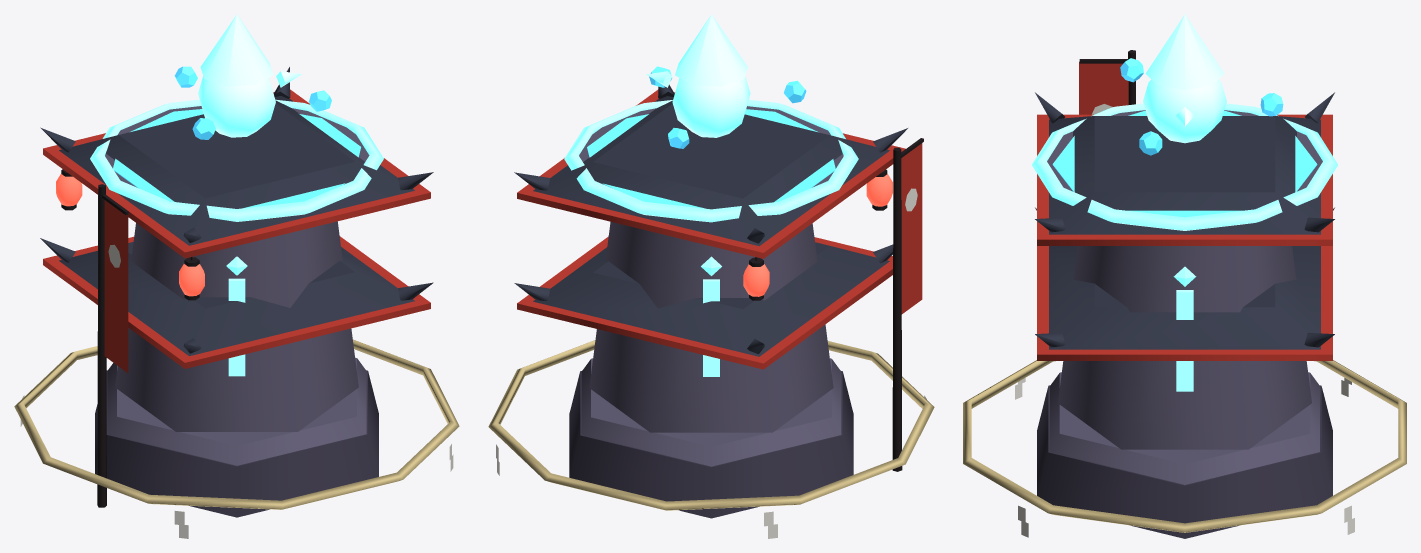
The model's file is tower_element_elementWater.glb.
3 views of the same model, side by side, from view 1: azimuth 30°, elevation 25°; view 2: azimuth 150°, elevation 25°; view 3: azimuth 270°, elevation 25° (orthographic). The views are drawn at different scales.
Parts seen in each view (by area): view 1: pillar, deco_eave_0_roof, deco_eave_1_roof, base, base_top, deco_shimenawa_rope, basin_rim, deco_eave_1_rim, deco_eave_0_rim, deco_nobori_cloth, crystal, crystal_tip (+8 smaller); view 2: pillar, deco_eave_0_roof, deco_eave_1_roof, base, base_top, deco_shimenawa_rope, deco_eave_1_rim, basin_rim, deco_eave_0_rim, crystal, deco_nobori_cloth, crystal_tip (+8 smaller); view 3: pillar, deco_eave_0_roof, deco_eave_1_roof, base, base_top, deco_shimenawa_rope, basin_rim, deco_eave_1_rim, deco_eave_0_rim, crystal, crystal_tip, deco_nobori_cloth (+5 smaller).
Part boxes in pixels (box(x1,y1,x2,y2)): pillar: box(115, 221, 358, 431); deco_eave_0_roof: box(59, 96, 414, 245); deco_eave_1_roof: box(59, 242, 414, 356); base: box(95, 370, 378, 517); base_top: box(107, 357, 366, 465); deco_shimenawa_rope: box(14, 339, 459, 509); basin_rim: box(90, 99, 383, 221); deco_eave_1_rim: box(43, 236, 430, 368); deco_eave_0_rim: box(43, 89, 430, 258); deco_nobori_cloth: box(104, 200, 128, 372); crystal: box(198, 76, 275, 137); crystal_tip: box(200, 14, 273, 86); pillar: box(589, 222, 833, 432); deco_eave_0_roof: box(533, 96, 889, 246); deco_eave_1_roof: box(533, 242, 889, 356); base: box(569, 371, 853, 518); base_top: box(581, 358, 841, 466); deco_shimenawa_rope: box(488, 340, 934, 510); deco_eave_1_rim: box(517, 236, 892, 369); basin_rim: box(564, 99, 858, 222); deco_eave_0_rim: box(517, 89, 905, 258); crystal: box(672, 76, 750, 137); deco_nobori_cloth: box(901, 143, 922, 314); crystal_tip: box(675, 14, 747, 86); pillar: box(1058, 246, 1311, 449); deco_eave_0_roof: box(1049, 116, 1320, 234); deco_eave_1_roof: box(1049, 246, 1320, 349); base: box(1037, 385, 1332, 538); base_top: box(1050, 372, 1319, 484); deco_shimenawa_rope: box(963, 360, 1406, 532); basin_rim: box(1032, 103, 1337, 230); deco_eave_1_rim: box(1037, 246, 1332, 360); deco_eave_0_rim: box(1037, 114, 1332, 245); crystal: box(1143, 79, 1226, 143); crystal_tip: box(1145, 14, 1224, 89); deco_nobori_cloth: box(1079, 61, 1128, 114).
Bounding box in the file's own units: 0.5326 × 0.57 × 0.5066.
